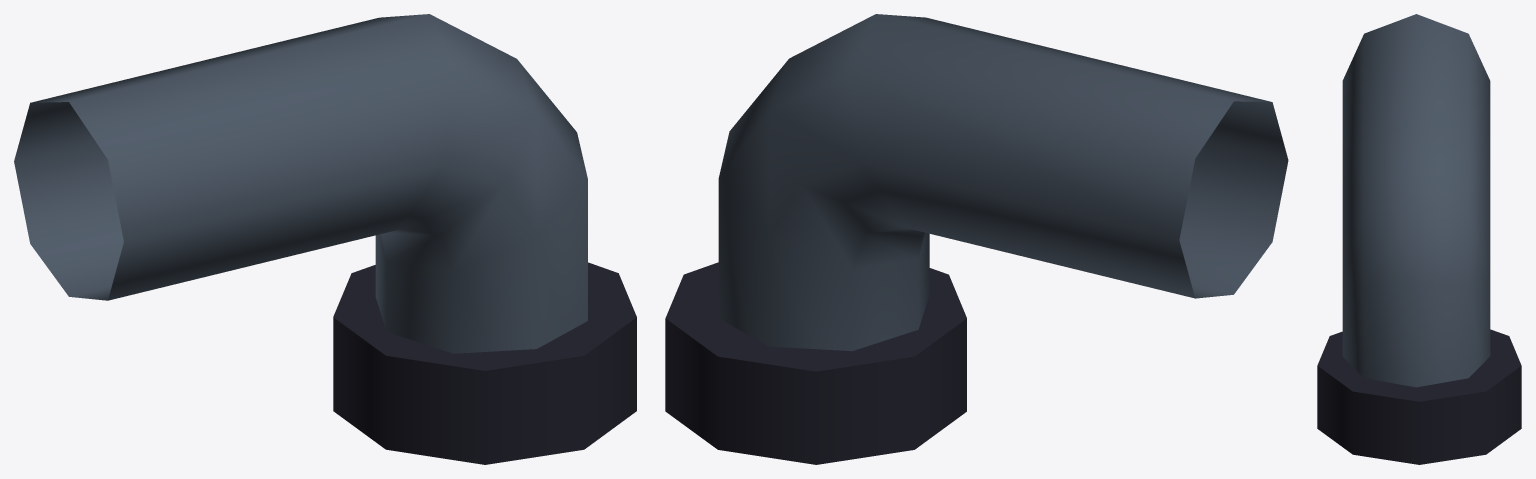
The model's file is Pipe_1_A_2_1.glb.
3 views of the same model, side by side, from view 1: azimuth 30°, elevation 25°; view 2: azimuth 150°, elevation 25°; view 3: azimuth 270°, elevation 25° (orthographic). The views are drawn at different scales.
Parts seen in each view (by area): view 1: Pipe_1_A_2_1; view 2: Pipe_1_A_2_1; view 3: Pipe_1_A_2_1.
Boxes of the visible parts, x1=… form: Pipe_1_A_2_1: x1=14, y1=14, x2=636, y2=464; Pipe_1_A_2_1: x1=665, y1=14, x2=1288, y2=464; Pipe_1_A_2_1: x1=1317, y1=14, x2=1521, y2=464.
Size of the model in its own units: 0.6318 by 0.4392 by 0.3012.
1 material, 1 textured.
